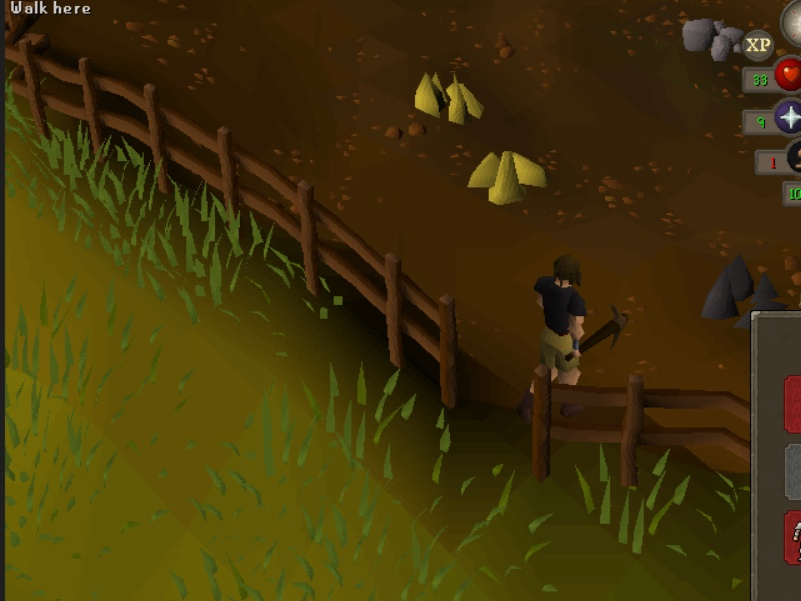gold: (410, 64, 494, 135), (464, 146, 553, 213)
